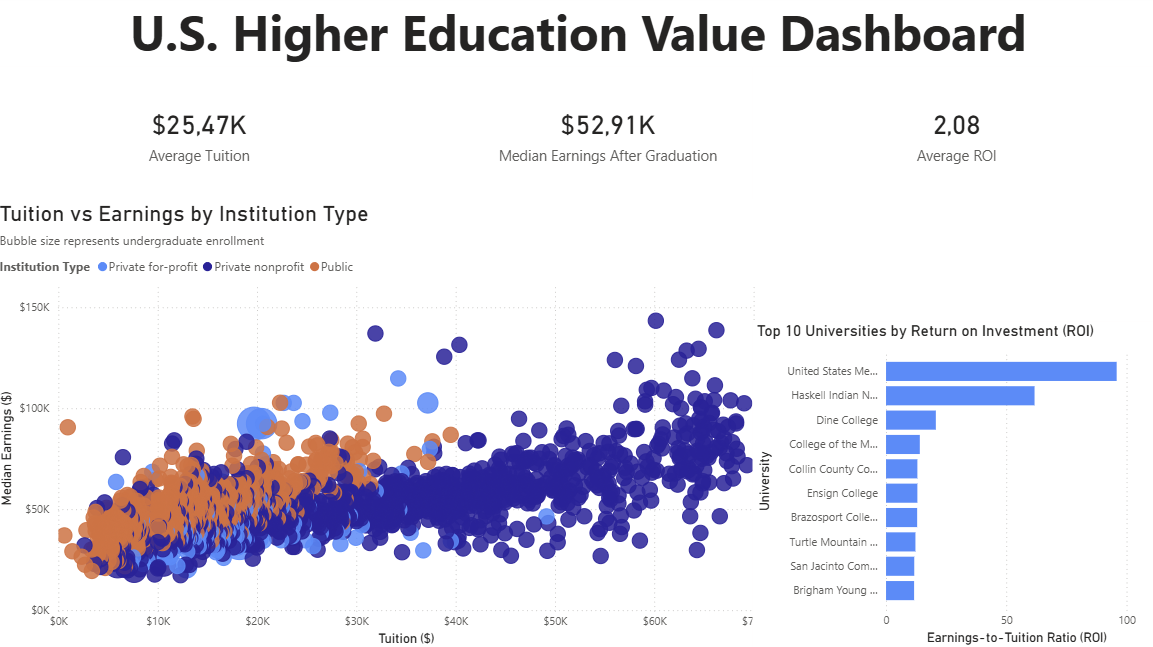

The dashboard page shown, as its layout file describes it:
{"tool":"powerbi","page":{"name":"Overview","canvas":[1280,720],"ordinal":0},"visuals":[{"type":"textbox","box":[0,0,1280.3,279.9],"z":0},{"type":"card","fields":{"Values":["Avg(gold_institution_roi.AVG_TUITION)"]},"box":[0,79.6,448.7,145.5],"z":1000},{"type":"card","fields":{"Values":["Avg(gold_institution_roi.MD_EARN_WNE_P10)"]},"box":[448.7,79.6,448.7,145.5],"z":2000},{"type":"card","fields":{"Values":["gold_control_summary.Average ROI"]},"box":[831.6,79.6,448.7,145.5],"z":3000},{"type":"scatterChart","title":"Tuition vs Earnings by Institution Type","fields":{"X":["gold_institution_roi.AVG_TUITION"],"Y":["gold_institution_roi.MD_EARN_WNE_P10"],"Series":["gold_institution_roi.CONTROL_DESC"],"Size":["CountNonNull(gold_institution_roi.UGDS)"]},"box":[0,226,852,494],"z":4000},{"type":"clusteredBarChart","title":"Top 10 Universities by Return on Investment (ROI)","fields":{"Category":["gold_institution_roi.INSTNM"],"Y":["Avg(gold_institution_roi.EARNINGS_TO_TUITION_RATIO)"]},"box":[831.4,360,448.6,360],"z":5000}]}

Visuals, with their boxes in screenshot pixels (x1, y1, x2, y2), scaled from the page's 1280x720 canvas onto the 1153x647 screenshot:
textbox: l=0, t=0, r=1152, b=252
card - Avg(gold_institution_roi.AVG_TUITION): l=0, t=72, r=404, b=202
card - Avg(gold_institution_roi.MD_EARN_WNE_P10): l=404, t=72, r=808, b=202
card - gold_control_summary.Average ROI: l=749, t=72, r=1152, b=202
"Tuition vs Earnings by Institution Type" scatterChart: l=0, t=203, r=767, b=646
"Top 10 Universities by Return on Investment (ROI)" clusteredBarChart: l=749, t=324, r=1152, b=646
